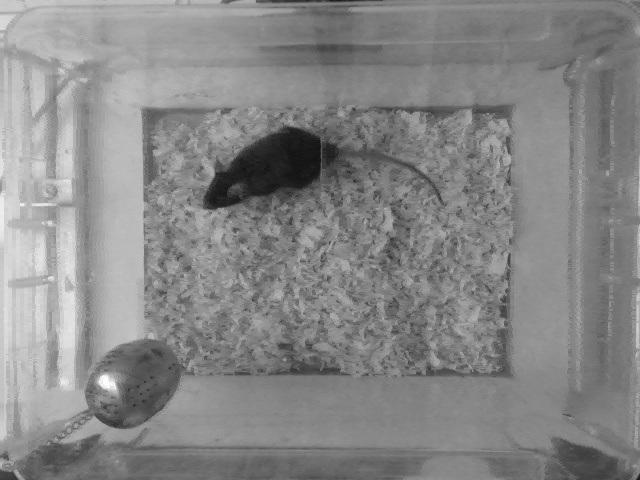mice: (196, 128, 446, 210)
